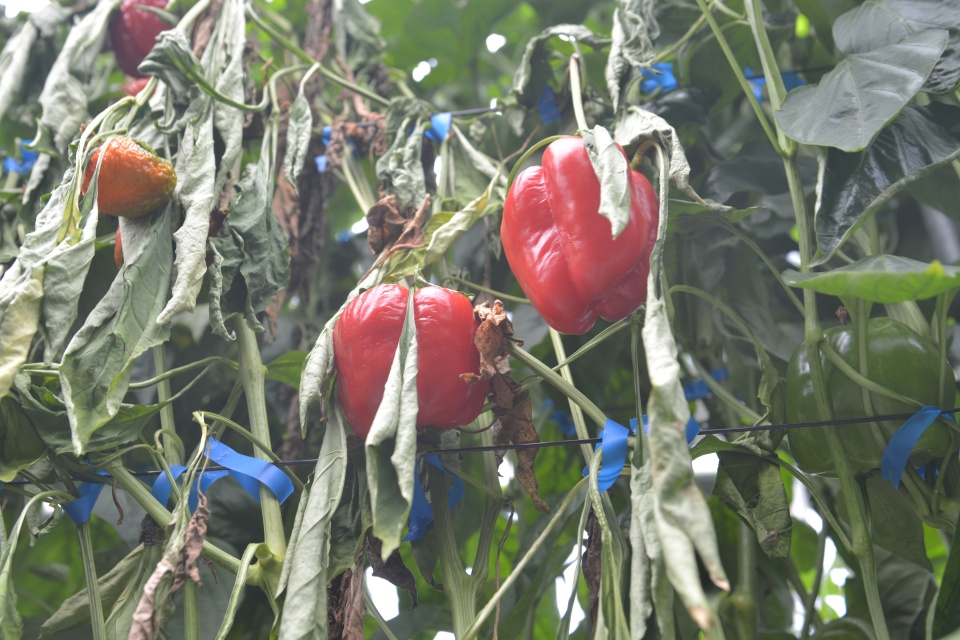fruit: (500, 132, 660, 336), (782, 313, 960, 480), (331, 281, 488, 444), (81, 131, 178, 219), (107, 1, 181, 77)
